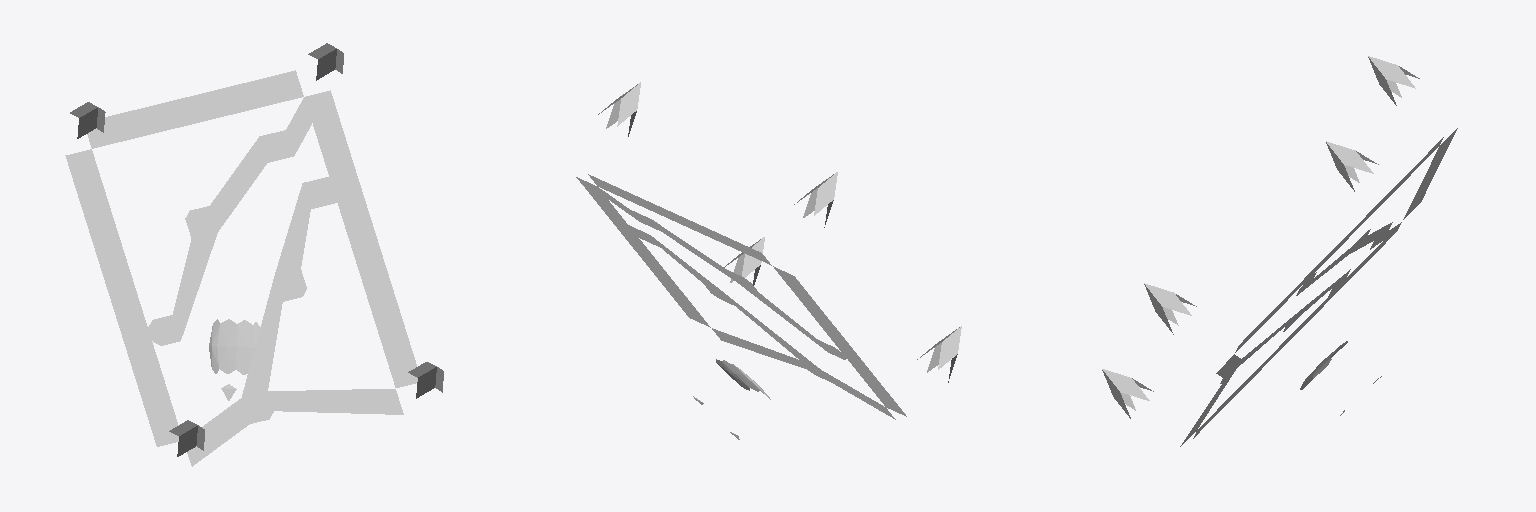
Rendered from shinytop.obj.
3 renders of one model, left to right at view 1: azimuth 30°, elevation 25°; view 2: azimuth 150°, elevation 25°; view 3: azimuth 270°, elevation 25°, orthographic.
Visible parts, largest first — view 1: shinytop_Cylinder.002; view 2: shinytop_Cylinder.002; view 3: shinytop_Cylinder.002.
Part boxes in pixels (left/top/right/bottom): shinytop_Cylinder.002: left=65, top=43, right=443, bottom=466; shinytop_Cylinder.002: left=576, top=82, right=961, bottom=439; shinytop_Cylinder.002: left=1102, top=56, right=1457, bottom=446.
Size of the model in its own units: 10.84 by 12.85 by 12.54.